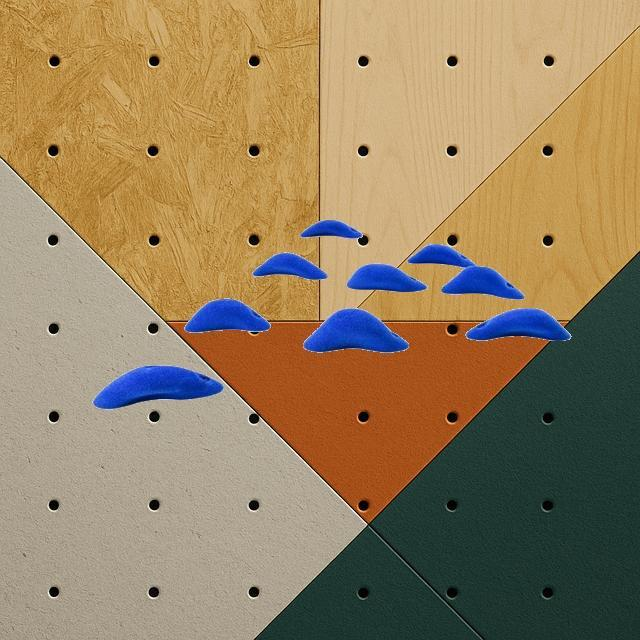Jug: (92, 364, 224, 410), (303, 307, 409, 353), (466, 306, 570, 342), (184, 297, 270, 333), (441, 264, 525, 300), (345, 262, 427, 292), (252, 252, 328, 280), (406, 243, 476, 267), (300, 218, 362, 238)
